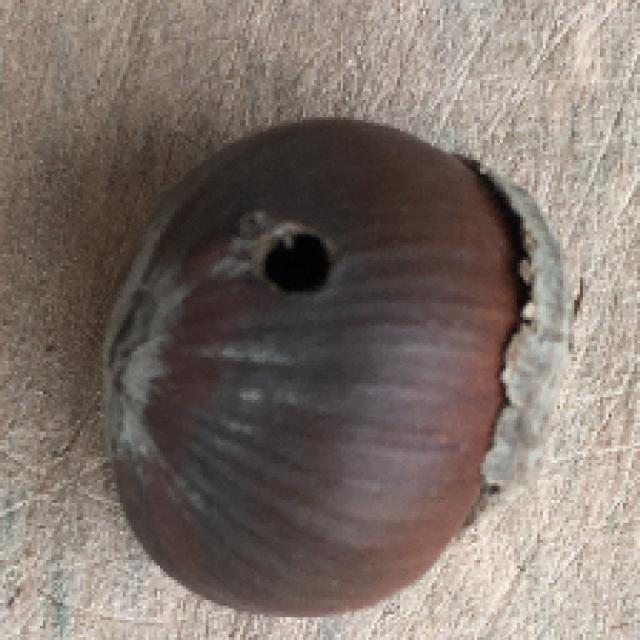damagedHazelnut: (102, 109, 580, 626)
